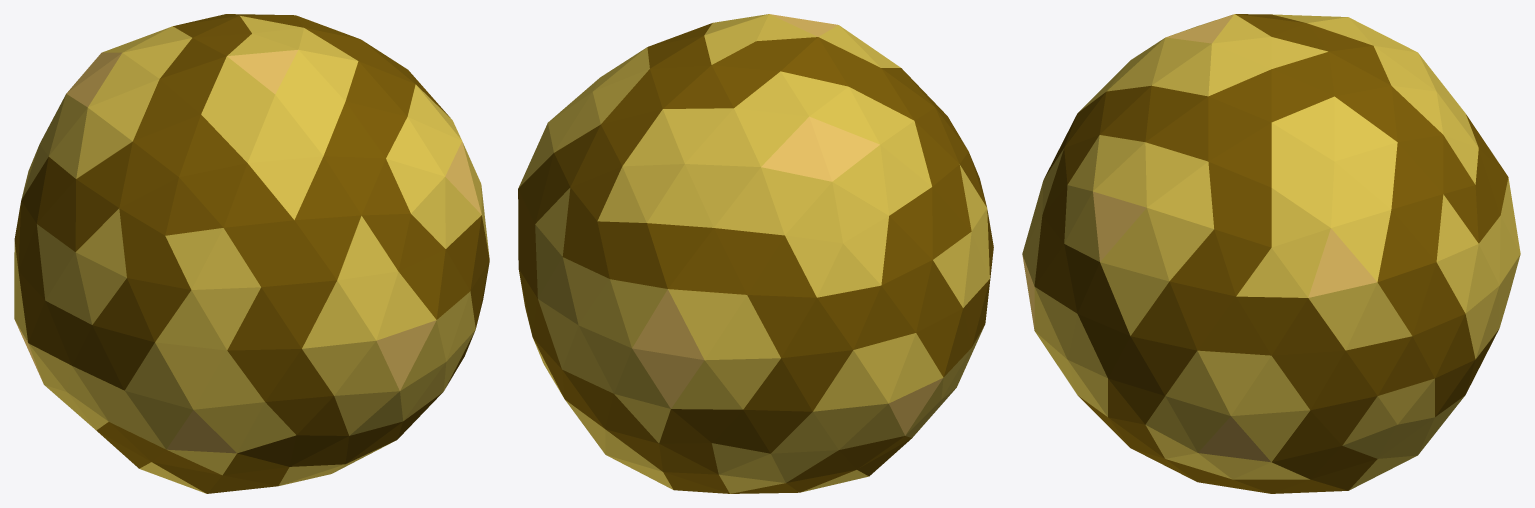
File: joe.dae
3 views of the same model, side by side, from view 1: azimuth 30°, elevation 25°; view 2: azimuth 150°, elevation 25°; view 3: azimuth 270°, elevation 25° (orthographic).
Parts seen in each view (by area): view 1: joe; view 2: joe; view 3: joe.
Boxes of the visible parts, box(x1,y1,x2,y2) form: joe: box(14, 14, 489, 493); joe: box(518, 14, 993, 493); joe: box(1022, 14, 1520, 493).
Size of the model in its own units: 2 by 2.08 by 2.01.
